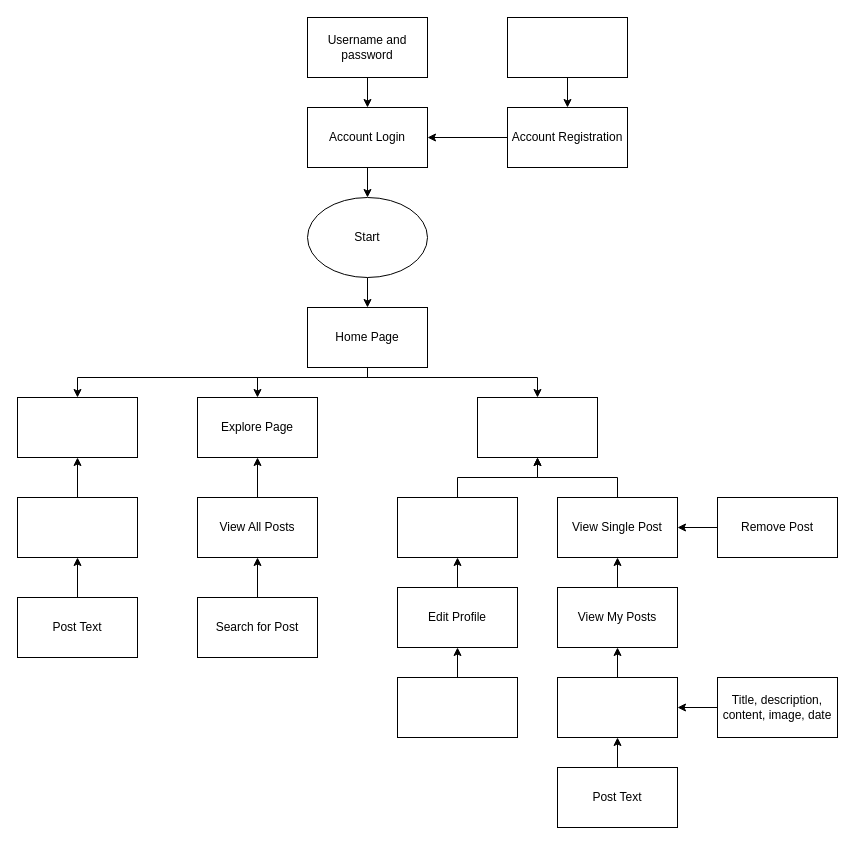
Image size: 855x845. Some labels were removed from this diagram. The centre of each missing label's shape, as x and y in pixels:
"Add Post" belongs at point 617,707.
"Featured Posts" belongs at point 77,427.
"Name, email, username, password" belongs at point 567,47.
"Update name, email, username, password" belongs at point 457,707.
"User Profile" belongs at point 537,427.
"User Profile Info" belongs at point 457,527.
"View Individual Post" belongs at point 77,527.
